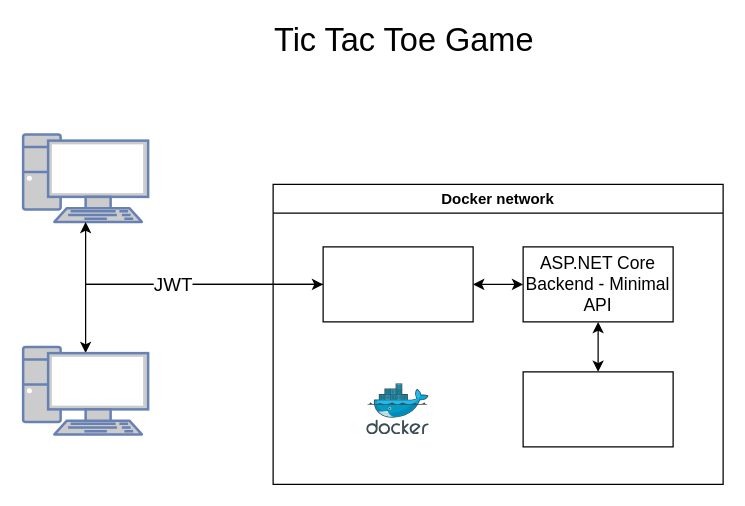
This 745x506 diagram has some shape labels left out. Each missing label, with the centre of its shape:
Nginx server: point 397,284
Postgre SQL server: point 597,409
